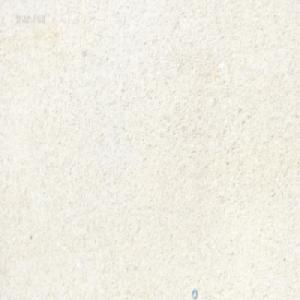Washer: (191, 288, 197, 299)
